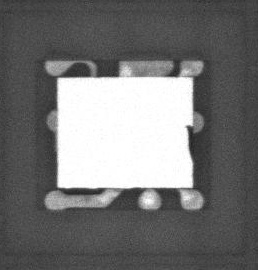DIE_BROKEN: (184, 123, 193, 167)
